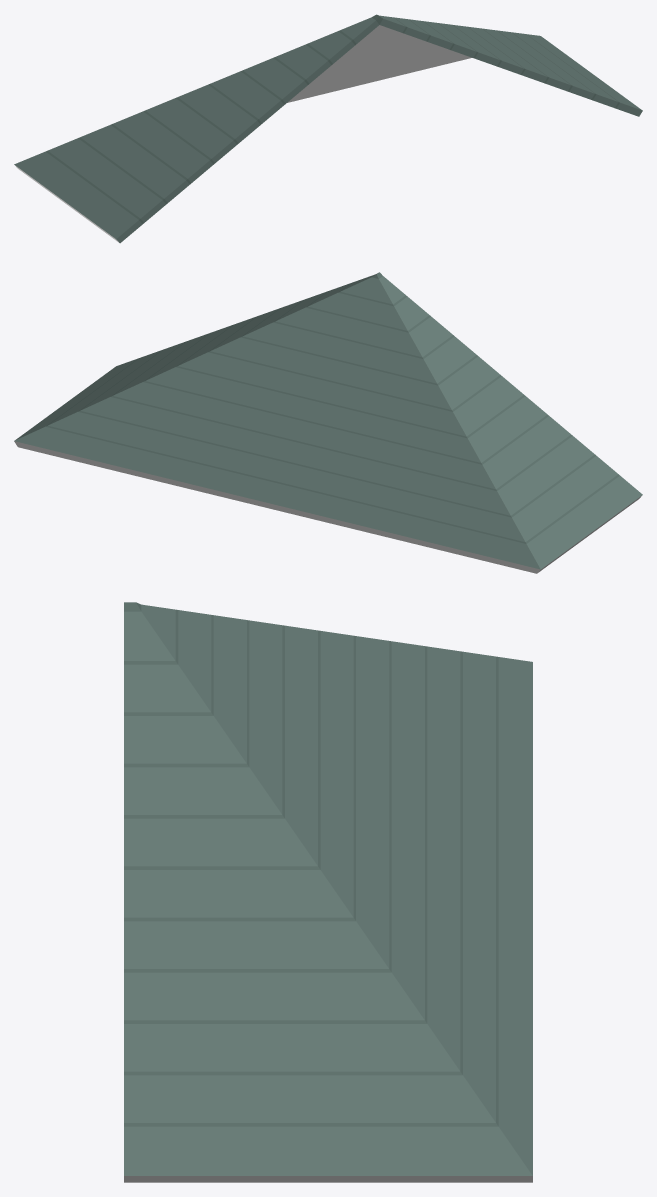
The model's file is Roof3_C6_02.fbx.
3 renders of one model, top to bottom at view 1: azimuth 30°, elevation 25°; view 2: azimuth 150°, elevation 25°; view 3: azimuth 270°, elevation 25°, orthographic. The views are drawn at different scales.
Parts seen in each view (by area): view 1: Roof3_C6_02; view 2: Roof3_C6_02; view 3: Roof3_C6_02.
Part boxes in pixels (left/top/right/bottom): Roof3_C6_02: left=14, top=14, right=642, bottom=243; Roof3_C6_02: left=14, top=272, right=642, bottom=573; Roof3_C6_02: left=124, top=602, right=532, bottom=1182.
Size of the model in its own units: 833 by 247 by 280.
